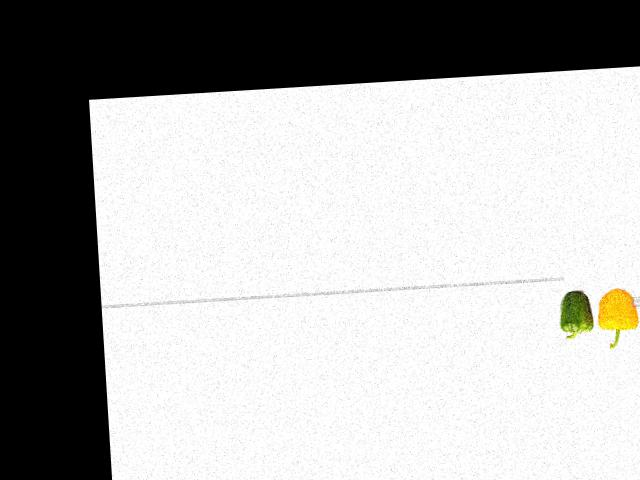bell_pepper: (553, 286, 593, 346)
